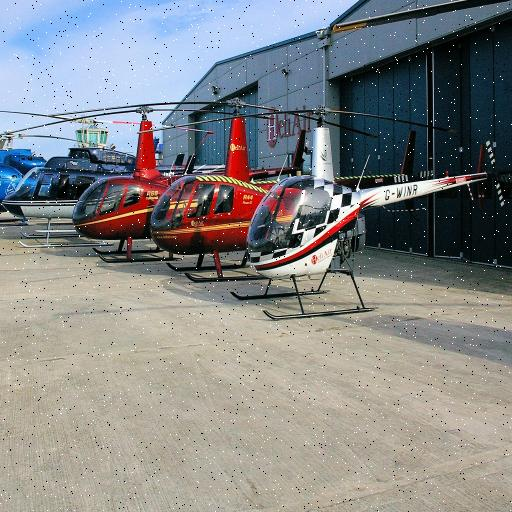helicopter: (235, 92, 512, 338), (139, 99, 325, 295), (63, 95, 208, 276), (1, 99, 126, 268), (1, 94, 65, 263)
